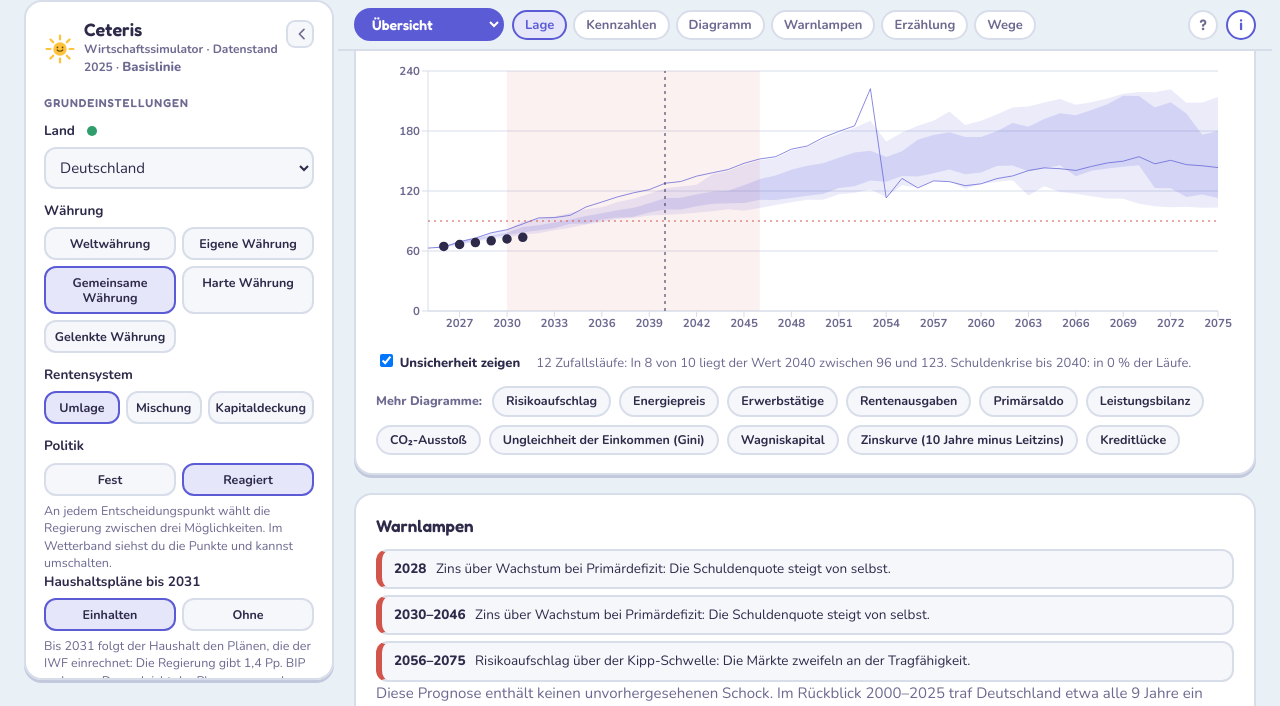
Test: 13.4 Unsicherheitsband › abgeschaltet: kein Satz, keine Legende
(page scrolled)
Expected: the text "12 Zufallsläufe" is shown, [536, 354, 947, 372]
Click the checkbox labelled "Unsicherheit zeigen" at (386, 361), box [380, 354, 393, 367]
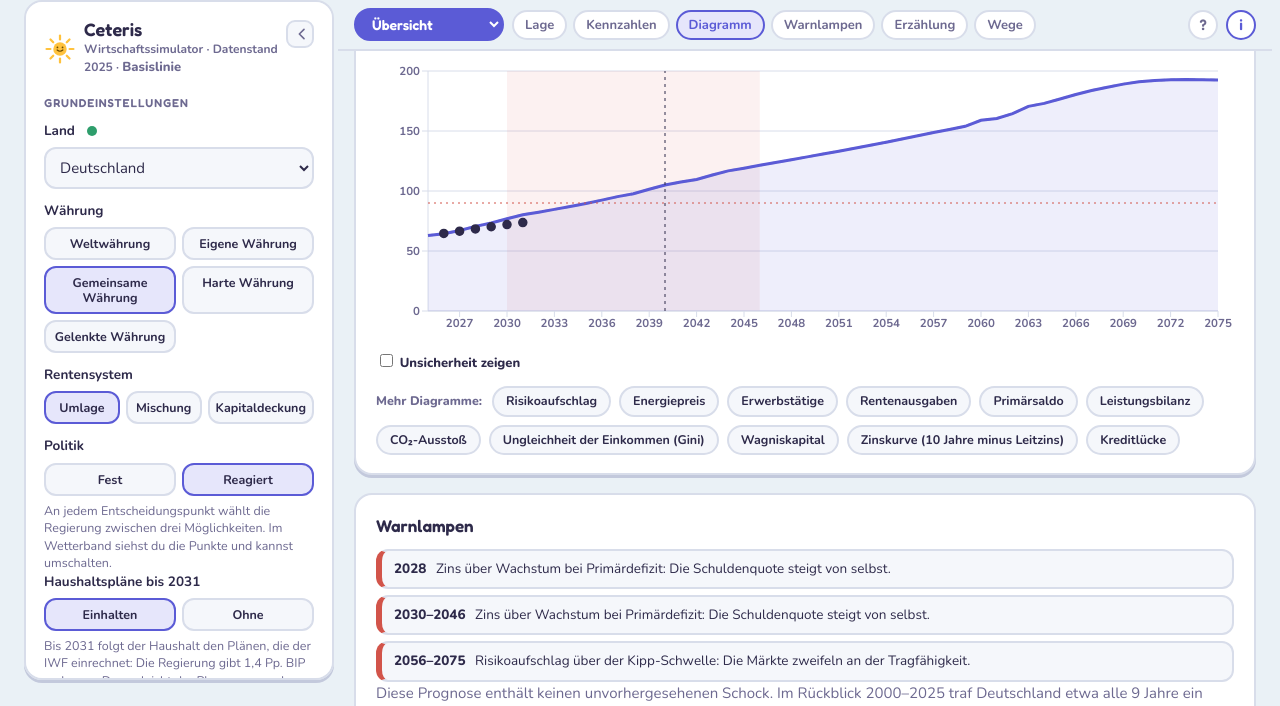
Expected: the text "Zufallsläufe: In 8 von 10" is gone
Expected: the text "8 von 10 Zufallsläufen" is gone
